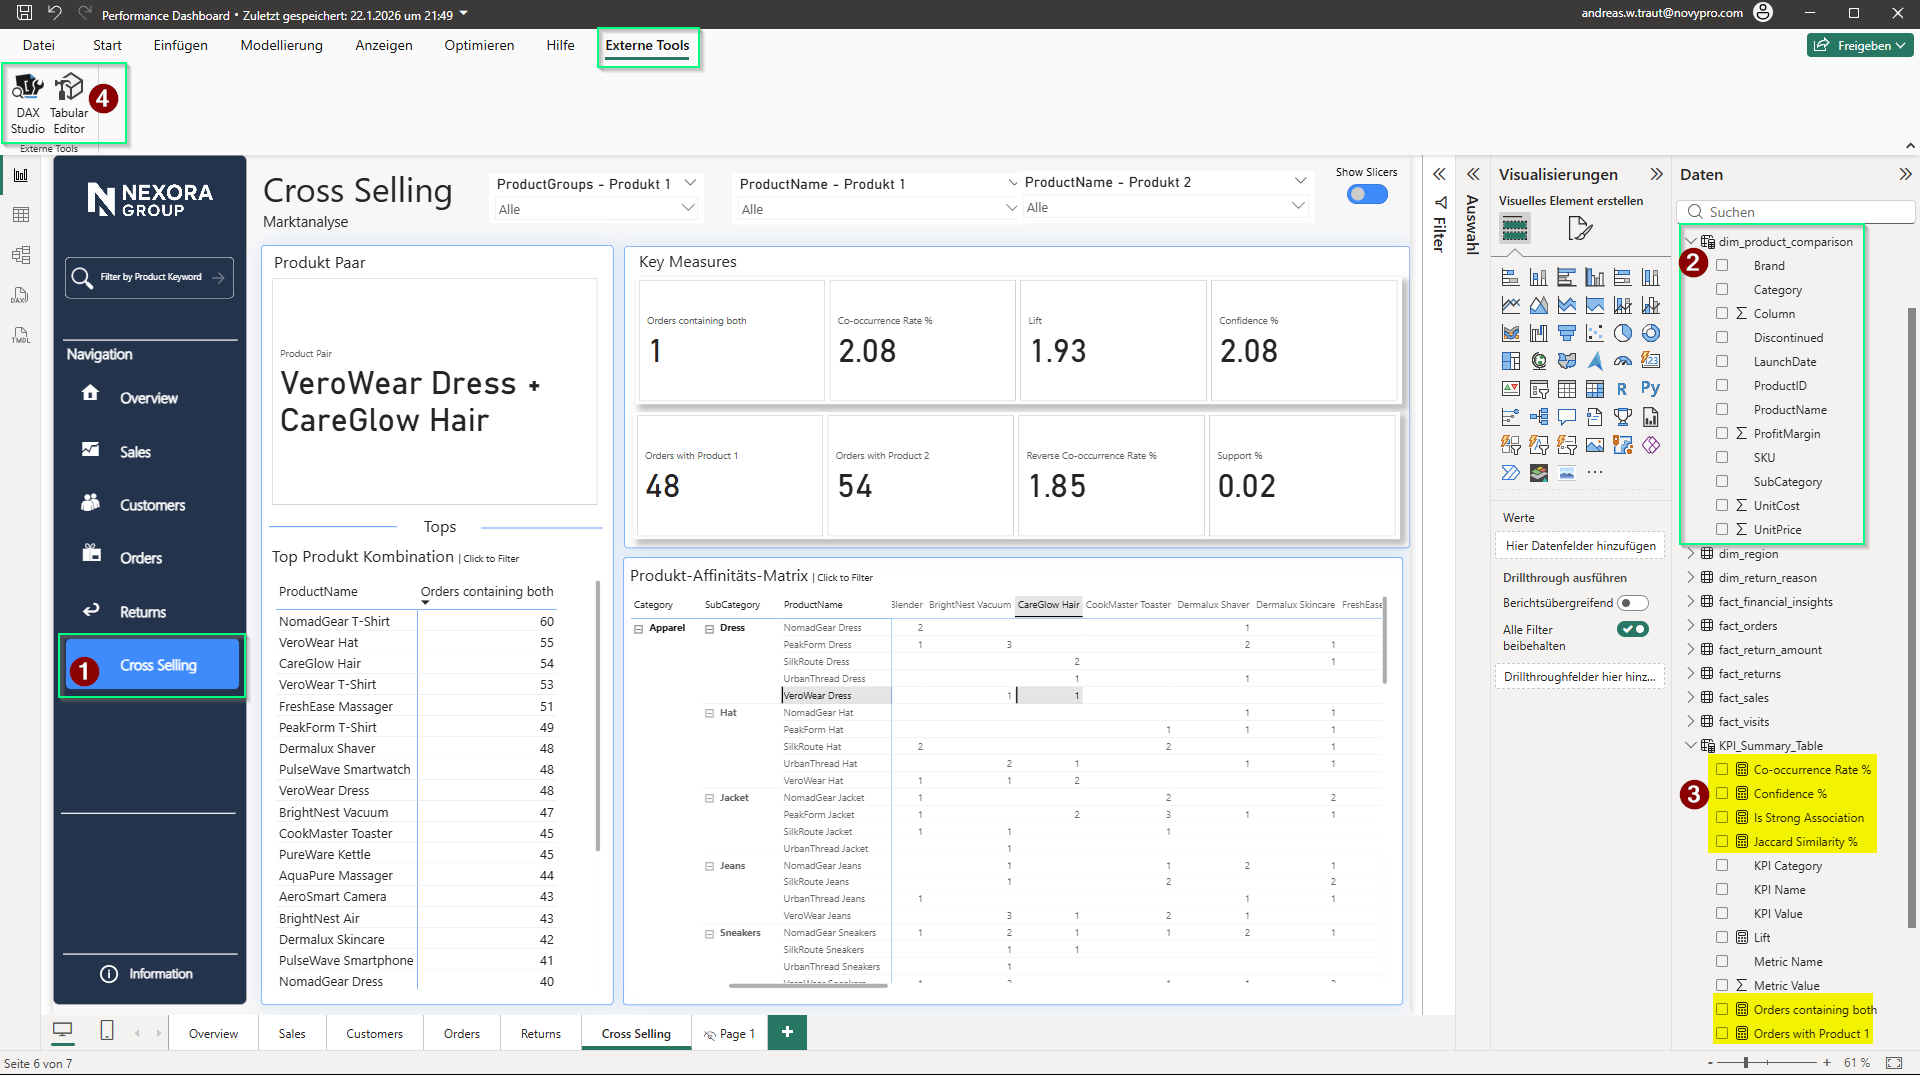

The page's visual inventory and layout, read from the dashboard file:
{"tool":"powerbi","page":{"name":"Cross Selling","canvas":[2240,1420],"ordinal":5},"visuals":[{"type":"group","id":"g1","title":"Group 10","box":[0,0,320,1403],"z":0,"group":"g8"},{"type":"shape","box":[0,0,320,1403],"z":0,"group":"g1"},{"type":"group","id":"g2","title":"Group 2","box":[2132.3,43.9,73.7,39.6],"z":0,"group":"g10"},{"type":"group","id":"g3","title":"Group 1","box":[2135.6,47.2,68.3,33.3],"z":0,"group":"g2"},{"type":"shape","box":[2135.6,47.2,68.3,33.3],"z":0,"group":"g3"},{"type":"textbox","box":[359.9,152.4,392.9,52.9],"z":0,"group":"g7"},{"type":"shape","box":[20.6,168.5,279.3,68.5],"z":0,"group":"g9"},{"type":"textbox","box":[36.7,363.2,51.3,88.2],"z":0,"group":"g5"},{"type":"shape","box":[357.3,593.4,211.6,41.8],"z":0,"group":"g6"},{"type":"shape","box":[941.3,663.8,1287.8,740],"z":0},{"type":"textbox","box":[122.1,1331,162.8,50.2],"z":0,"group":"g4"},{"type":"textbox","box":[2112.8,9.9,113.3,37.8],"z":1000,"group":"g10"},{"type":"image","box":[18,27.7,282.3,95.2],"z":1000,"group":"g1"},{"type":"actionButton","box":[2132.3,43.9,75,40],"z":1000,"group":"g2"},{"type":"shape","box":[2142.8,52.2,22.8,22.8],"z":1000,"group":"g3"},{"type":"textbox","box":[962.4,150.1,394,48],"z":1000,"group":"g7"},{"type":"image","box":[22.8,176.8,54.3,53.9],"z":1000,"group":"g9"},{"type":"textbox","box":[18,306,162,50],"z":1000,"group":"g8"},{"type":"textbox","box":[36.7,461,51.3,71.1],"z":1000,"group":"g5"},{"type":"shape","box":[707.7,597.1,201.2,36.3],"z":1000,"group":"g6"},{"type":"shape","box":[382.4,678.5,203.6,41.8],"z":1000},{"type":"actionButton","box":[72,1332.7,39.8,39.8],"z":1000,"group":"g4"},{"type":"actionButton","box":[2127.3,41.6,79.1,41.4],"z":2000,"group":"g10"},{"type":"shape","box":[942.8,150.3,1284.6,498.7],"z":2000},{"type":"textSlicer","fields":{"Values":["dim_product.Product.Category"]},"box":[66.3,182.2,232.1,37.9],"z":2000,"group":"g9"},{"type":"pageNavigator","box":[21,357.9,286.3,525.5],"z":2000,"group":"g1"},{"type":"textbox","box":[36.7,544.1,51.3,88.2],"z":2000,"group":"g5"},{"type":"textbox","box":[566.6,587.7,145.5,48.5],"z":2000,"group":"g6"},{"type":"group","id":"g4","title":"Group 11","box":[72,1331,212.9,50.2],"z":2000,"group":"g8"},{"type":"group","id":"g5","title":"Group 9","box":[36.7,363.2,54.1,454],"z":3000,"group":"g1"},{"type":"textbox","box":[38.1,627.7,52.7,97.8],"z":3000,"group":"g5"},{"type":"shape","box":[719.7,682.2,193.6,36.4],"z":3000},{"type":"textbox","box":[38.1,723.9,49.9,93.3],"z":4000,"group":"g5"},{"type":"shape","box":[15.9,1316.1,287.5,29.4],"z":4000},{"type":"shape","box":[25.9,1326.1,287.5,29.4],"z":5000},{"type":"shape","box":[342.8,148.7,582.2,1255.1],"z":6000},{"type":"group","id":"g6","title":"Group 4","box":[357.3,587.7,551.4,47.2],"z":7000},{"type":"group","id":"g7","title":"Group 8","box":[359.9,150.1,996.5,55.2],"z":8000},{"type":"textbox","box":[948.1,668.4,440.3,60.1],"z":9000},{"type":"textbox","box":[341.8,13.2,516.8,125.5],"z":10000},{"type":"group","id":"g8","title":"Group 12","box":[0,0,320,1403],"z":11000},{"type":"shape","box":[16,1304,288,30],"z":12000},{"type":"shape","box":[16,290,288,30],"z":13000},{"type":"shape","box":[14,1017.9,288.1,139.7],"z":14000},{"type":"group","id":"g9","title":"Group 14","box":[20.6,168.5,279.3,68.5],"z":15000},{"type":"group","id":"g10","title":"Group 13","box":[2112.8,9.9,115,75],"z":21000},{"type":"slicer","fields":{"Values":["dim_product.Product.Category","dim_product.Product.SubCategory","dim_product.Product.Brand","dim_product.Product.ProductName"]},"box":[1120.9,29,489.7,85.2],"z":23000},{"type":"slicer","fields":{"Values":["dim_product_comparison.ProductName"]},"box":[1592.5,27.2,491.5,85.2],"z":24000},{"type":"cardVisual","fields":{"Data":["KPI_Summary_Table.Orders containing both","KPI_Summary_Table.Co-occurrence Rate %","KPI_Summary_Table.Lift","KPI_Summary_Table.Confidence %"]},"box":[962.6,201.4,1245,209.7],"z":25000},{"type":"cardVisual","fields":{"Data":["KPI_Summary_Table.Orders with Product 1","KPI_Summary_Table.Orders with Product 2","KPI_Summary_Table.Reverse Co-occurrence Rate %","KPI_Summary_Table.Support %"]},"box":[959.3,424.3,1248.3,209.7],"z":26000},{"type":"cardVisual","fields":{"Data":["KPI_Summary_Table.Product Pair"]},"box":[357.3,197.7,547.8,384.5],"z":27000},{"type":"pivotTable","fields":{"Rows":["dim_product.Product.Category","dim_product.Product.SubCategory","dim_product.Product.ProductName"],"Columns":["dim_product_comparison.ProductName"],"Values":["KPI_Summary_Table.Orders containing both"]},"box":[948.6,723.7,1258.8,658.4],"z":28000},{"type":"pivotTable","title":"Top Produkt Kombination","fields":{"Rows":["dim_product_comparison.ProductName"],"Values":["KPI_Summary_Table.Orders containing both"]},"box":[362.8,696.5,545.9,685.6],"z":29000},{"type":"textbox","box":[357.3,636.6,440.7,59.9],"z":30000},{"type":"slicer","fields":{"Values":["dim_product.Product.Category","dim_product.Product.SubCategory"]},"box":[720.1,29,355.5,83.4],"z":31000}]}

Visuals, with their boxes on the page's 2240x1420 design canvas (x1, y1, x2, y2). These are canvas units, not pixel positions in the 1920x1075 screenshot, which may show the page scaled, cropped or inside an application window:
"Group 10" group: BBox(0, 0, 320, 1403)
shape: BBox(0, 0, 320, 1403)
"Group 2" group: BBox(2132, 44, 2206, 84)
"Group 1" group: BBox(2136, 47, 2204, 80)
shape: BBox(2136, 47, 2204, 80)
textbox: BBox(360, 152, 753, 205)
shape: BBox(21, 168, 300, 237)
textbox: BBox(37, 363, 88, 451)
shape: BBox(357, 593, 569, 635)
shape: BBox(941, 664, 2229, 1404)
textbox: BBox(122, 1331, 285, 1381)
textbox: BBox(2113, 10, 2226, 48)
image: BBox(18, 28, 300, 123)
actionButton: BBox(2132, 44, 2207, 84)
shape: BBox(2143, 52, 2166, 75)
textbox: BBox(962, 150, 1356, 198)
image: BBox(23, 177, 77, 231)
textbox: BBox(18, 306, 180, 356)
textbox: BBox(37, 461, 88, 532)
shape: BBox(708, 597, 909, 633)
shape: BBox(382, 678, 586, 720)
actionButton: BBox(72, 1333, 112, 1372)
actionButton: BBox(2127, 42, 2206, 83)
shape: BBox(943, 150, 2227, 649)
textSlicer - dim_product.Product.Category: BBox(66, 182, 298, 220)
pageNavigator: BBox(21, 358, 307, 883)
textbox: BBox(37, 544, 88, 632)
textbox: BBox(567, 588, 712, 636)
"Group 11" group: BBox(72, 1331, 285, 1381)
"Group 9" group: BBox(37, 363, 91, 817)
textbox: BBox(38, 628, 91, 726)
shape: BBox(720, 682, 913, 719)
textbox: BBox(38, 724, 88, 817)
shape: BBox(16, 1316, 303, 1346)
shape: BBox(26, 1326, 313, 1356)
shape: BBox(343, 149, 925, 1404)
"Group 4" group: BBox(357, 588, 909, 635)
"Group 8" group: BBox(360, 150, 1356, 205)
textbox: BBox(948, 668, 1388, 728)
textbox: BBox(342, 13, 859, 139)
"Group 12" group: BBox(0, 0, 320, 1403)
shape: BBox(16, 1304, 304, 1334)
shape: BBox(16, 290, 304, 320)
shape: BBox(14, 1018, 302, 1158)
"Group 14" group: BBox(21, 168, 300, 237)
"Group 13" group: BBox(2113, 10, 2228, 85)
slicer - dim_product.Product.Category x dim_product.Product.SubCategory: BBox(1121, 29, 1611, 114)
slicer - dim_product_comparison.ProductName: BBox(1592, 27, 2084, 112)
cardVisual - KPI_Summary_Table.Orders containing both x KPI_Summary_Table.Co-occurrence Rate %: BBox(963, 201, 2208, 411)
cardVisual - KPI_Summary_Table.Orders with Product 1 x KPI_Summary_Table.Orders with Product 2: BBox(959, 424, 2208, 634)
cardVisual - KPI_Summary_Table.Product Pair: BBox(357, 198, 905, 582)
pivotTable - dim_product.Product.Category x dim_product.Product.SubCategory: BBox(949, 724, 2207, 1382)
"Top Produkt Kombination" pivotTable: BBox(363, 696, 909, 1382)
textbox: BBox(357, 637, 798, 696)
slicer - dim_product.Product.Category x dim_product.Product.SubCategory: BBox(720, 29, 1076, 112)
